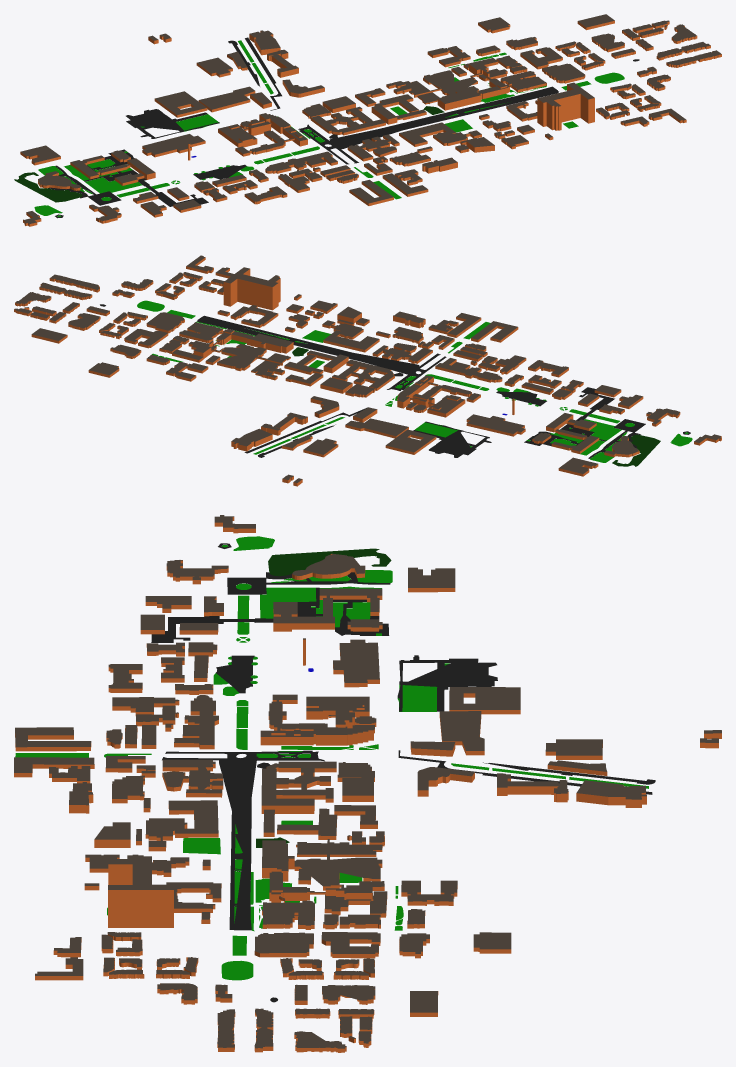
File: Full.obj
3 views of the same model, one above another, from view 1: azimuth 30°, elevation 25°; view 2: azimuth 150°, elevation 25°; view 3: azimuth 270°, elevation 25° (orthographic). The views are drawn at different scales.
Parts seen in each view (by area): view 1: Orchard_Commons_Mesh.359, element.249_Mesh.392, Biological_Sciences_Mesh.169, element.545_Mesh.773, Irving_K._Barber_Learning_Centre_Mesh, Old_Student_Union_Building_(SUB)_Mesh.765, The_Nest_(New_SUB)_Mesh.760, Civil_And_Mechanical_Engineering_Building_Mesh.352, element.037_Mesh.131, Neville_Scarfe_Building_Mesh.148, Earth_Sciences_Building_Mesh.312, Fred_Kaiser_Building_Mesh.354 (+33 smaller); view 2: Orchard_Commons_Mesh.359, element.249_Mesh.392, Biological_Sciences_Mesh.169, element.545_Mesh.773, Civil_And_Mechanical_Engineering_Building_Mesh.352, Irving_K._Barber_Learning_Centre_Mesh, Old_Student_Union_Building_(SUB)_Mesh.765, The_Nest_(New_SUB)_Mesh.760, Earth_Sciences_Building_Mesh.312, Neville_Scarfe_Building_Mesh.148, Fred_Kaiser_Building_Mesh.354, element.037_Mesh.131 (+19 smaller); view 3: Orchard_Commons_Mesh.359, element.249_Mesh.392, Biological_Sciences_Mesh.169, element.545_Mesh.773, Civil_And_Mechanical_Engineering_Building_Mesh.352, Old_Student_Union_Building_(SUB)_Mesh.765, Irving_K._Barber_Learning_Centre_Mesh, Neville_Scarfe_Building_Mesh.148, The_Nest_(New_SUB)_Mesh.760, David_Strangway_Building_Mesh.756, Earth_Sciences_Building_Mesh.312, element.037_Mesh.131 (+26 smaller).
Boxes of the visible parts, <box> form: Orchard_Commons_Mesh.359: <box>537,82,594,130</box>; element.249_Mesh.392: <box>329,86,558,148</box>; Biological_Sciences_Mesh.169: <box>310,106,385,135</box>; element.545_Mesh.773: <box>126,109,219,138</box>; Irving_K._Barber_Learning_Centre_Mesh: <box>142,134,205,157</box>; Old_Student_Union_Building_(SUB)_Mesh.765: <box>154,91,207,117</box>; The_Nest_(New_SUB)_Mesh.760: <box>198,86,255,112</box>; Civil_And_Mechanical_Engineering_Building_Mesh.352: <box>423,70,477,95</box>; element.037_Mesh.131: <box>14,172,82,202</box>; Neville_Scarfe_Building_Mesh.148: <box>347,134,399,161</box>; Earth_Sciences_Building_Mesh.312: <box>399,122,456,146</box>; Fred_Kaiser_Building_Mesh.354: <box>437,88,481,110</box>; Orchard_Commons_Mesh.359: <box>223,267,280,310</box>; element.249_Mesh.392: <box>197,315,419,373</box>; Biological_Sciences_Mesh.169: <box>332,359,394,390</box>; element.545_Mesh.773: <box>425,421,491,457</box>; Civil_And_Mechanical_Engineering_Building_Mesh.352: <box>217,347,266,371</box>; Irving_K._Barber_Learning_Centre_Mesh: <box>466,414,525,436</box>; Old_Student_Union_Building_(SUB)_Mesh.765: <box>385,429,436,454</box>; The_Nest_(New_SUB)_Mesh.760: <box>345,418,408,438</box>; Earth_Sciences_Building_Mesh.312: <box>323,330,379,352</box>; Neville_Scarfe_Building_Mesh.148: <box>372,345,432,363</box>; Fred_Kaiser_Building_Mesh.354: <box>247,333,293,353</box>; element.037_Mesh.131: <box>612,434,660,466</box>; Orchard_Commons_Mesh.359: <box>108,856,173,927</box>; element.249_Mesh.392: <box>219,758,256,928</box>; Biological_Sciences_Mesh.169: <box>261,761,336,802</box>; element.545_Mesh.773: <box>397,655,497,711</box>; Civil_And_Mechanical_Engineering_Building_Mesh.352: <box>294,857,382,890</box>; Old_Student_Union_Building_(SUB)_Mesh.765: <box>449,687,520,714</box>; Irving_K._Barber_Learning_Centre_Mesh: <box>333,639,379,687</box>; Neville_Scarfe_Building_Mesh.148: <box>162,759,223,797</box>; The_Nest_(New_SUB)_Mesh.760: <box>439,711,484,755</box>; David_Strangway_Building_Mesh.756: <box>576,780,646,807</box>; Earth_Sciences_Building_Mesh.312: <box>168,800,218,837</box>; element.037_Mesh.131: <box>268,548,391,576</box>.
Bounding box in the file's own units: 1.28 × 0.0446 × 0.7156.
